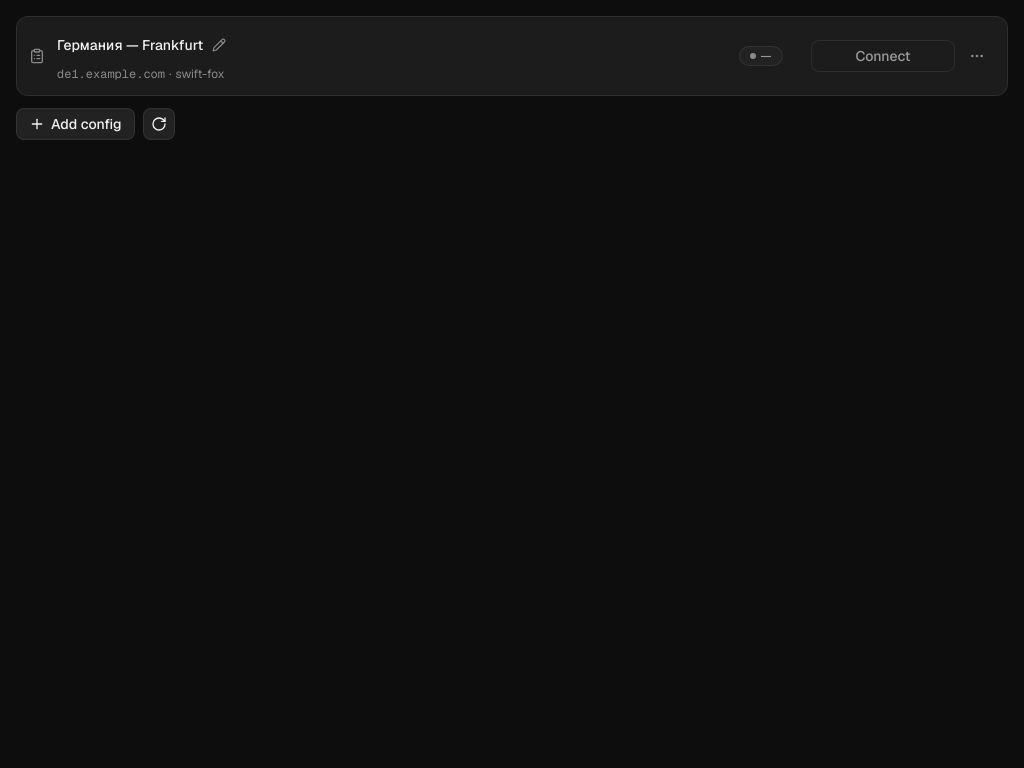
Test case: ConnectionPanel scroll behavior (IN-45/IN-49) › G-30.1-01 — the delete confirmation of an already-deleted config › reports the deletion in Russian instead of the backend's «not found»
The width and height of the screenshot is (1024, 768).
Expected: the text "Германия — Frankfurt" is shown, top-left (57, 34), bottom-right (203, 56)
Click the button named "Configuration actions".
click(977, 56)  # box top-left (959, 38), bottom-right (995, 74)
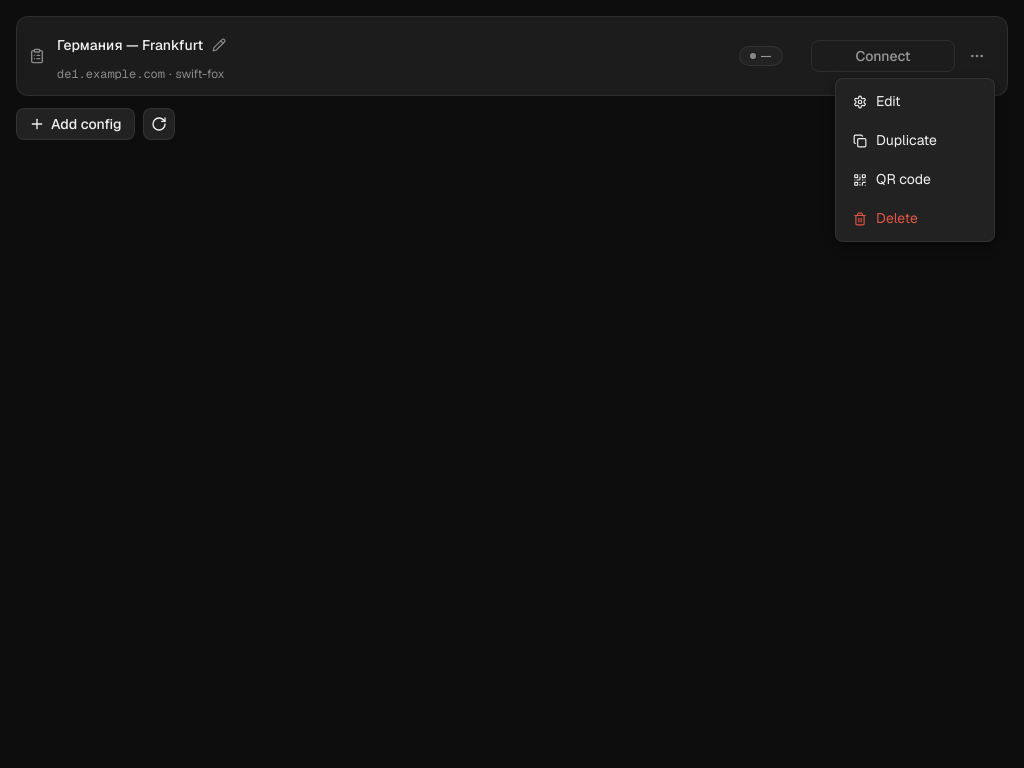
Click the menu item "Delete".
click(915, 218)  # box top-left (840, 200), bottom-right (990, 237)
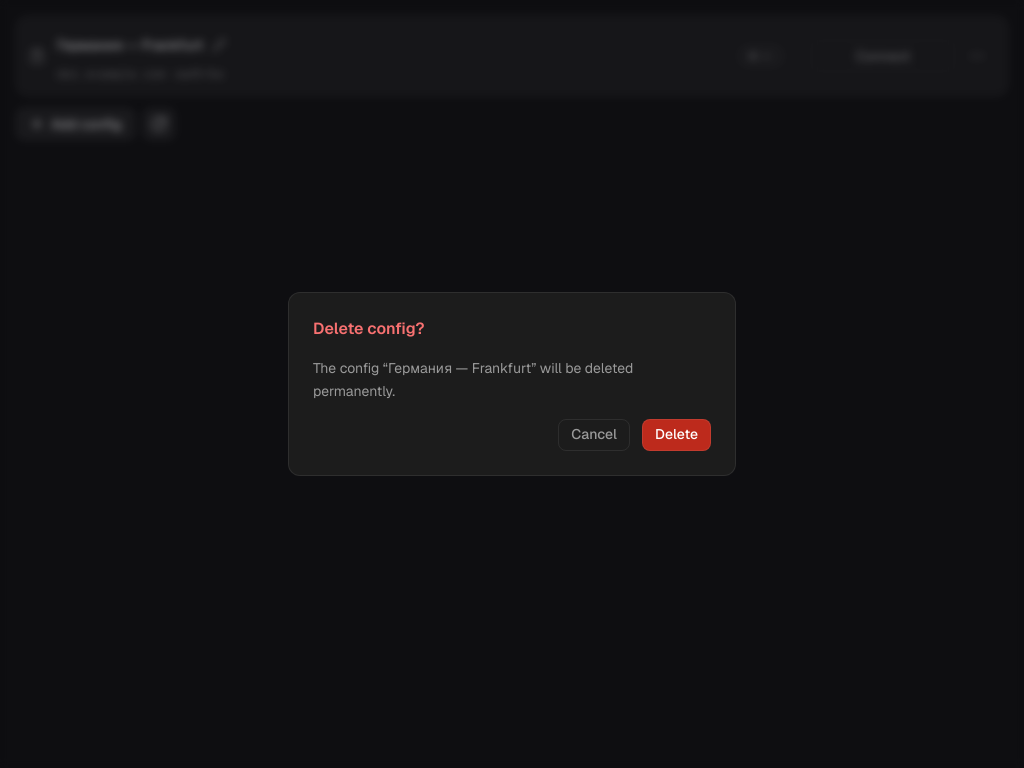
Click the button "Delete".
click(676, 435)  # box top-left (642, 419), bottom-right (711, 451)
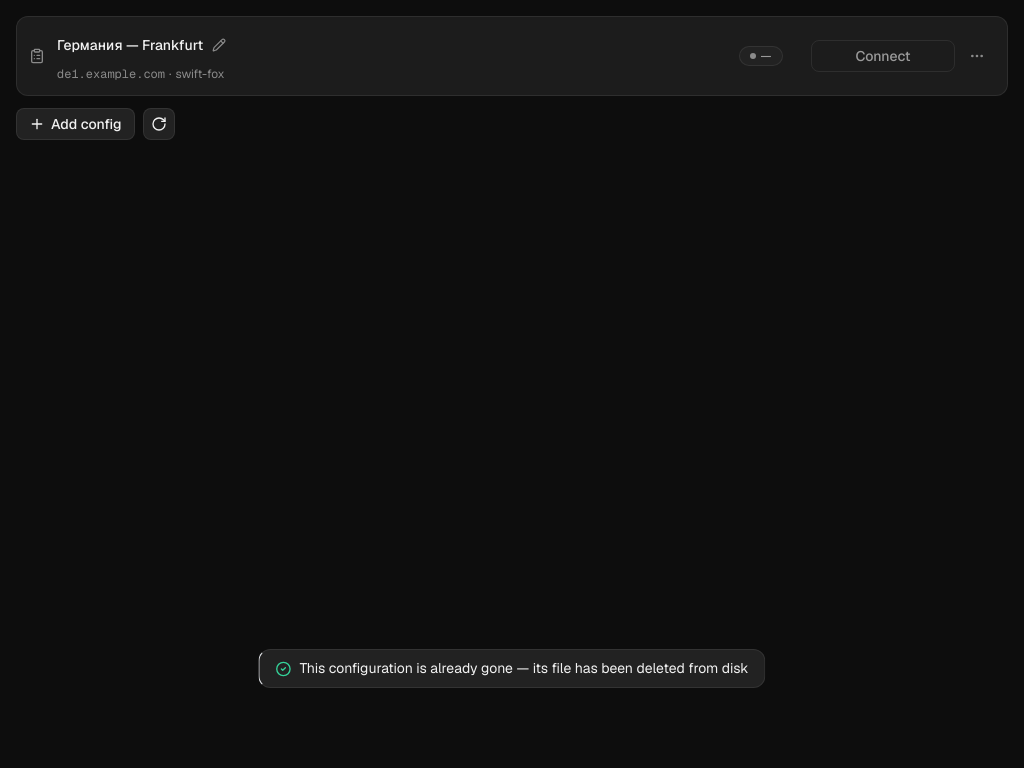
Now the text "This configuration is already gone — its file has been deleted from disk" is shown, box top-left (299, 658), bottom-right (749, 679)
